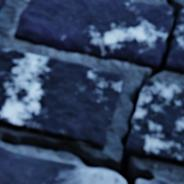brick: (0, 49, 123, 150), (126, 81, 183, 166), (0, 0, 6, 12)
broken_brick: (15, 0, 173, 70), (0, 147, 125, 183), (164, 11, 183, 75), (135, 179, 166, 183)
crack: (0, 0, 183, 183), (165, 101, 183, 107)
